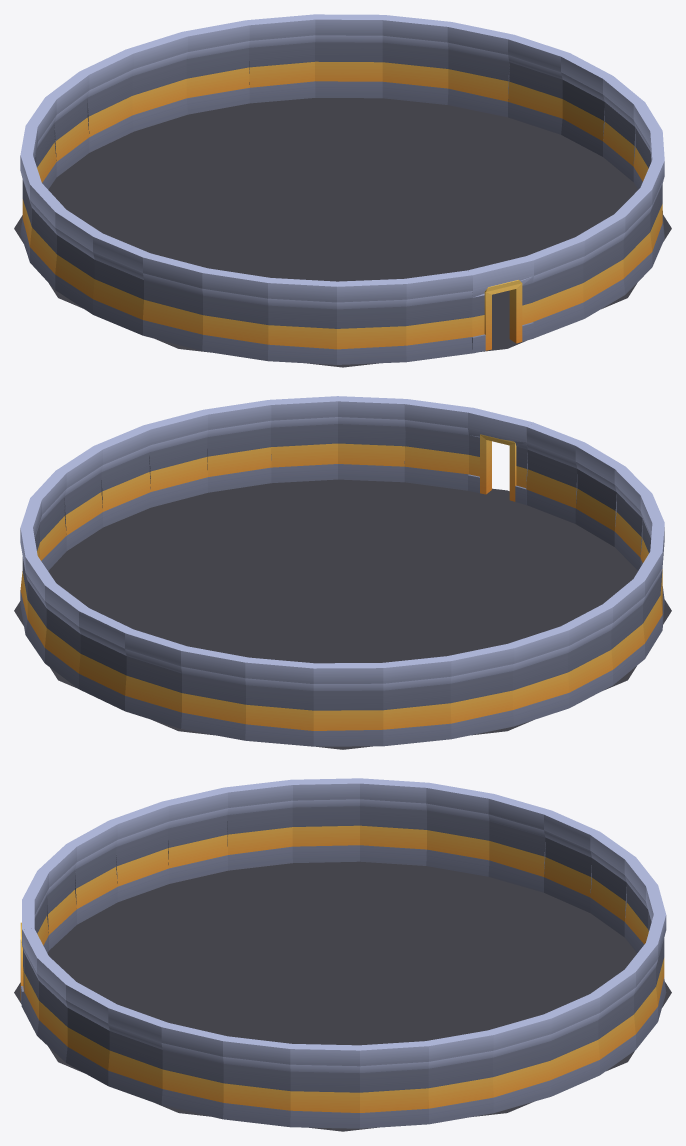
Rendered from walls.glb.
3 views of the same model, one above another, from view 1: azimuth 30°, elevation 25°; view 2: azimuth 150°, elevation 25°; view 3: azimuth 270°, elevation 25° (orthographic).
Visible parts, largest first — view 1: wall-banner, Plane, wall-door-banner; view 2: wall-banner, Plane, wall-door-banner; view 3: wall-banner, Plane, wall-door-banner.
Part boxes in pixels (<box>): wall-banner: <box>20,14,664,364</box>; Plane: <box>14,98,671,367</box>; wall-door-banner: <box>468,256,533,353</box>; wall-banner: <box>20,396,664,746</box>; Plane: <box>14,479,671,749</box>; wall-door-banner: <box>468,407,533,504</box>; wall-banner: <box>22,778,666,1128</box>; Plane: <box>14,861,671,1131</box>; wall-door-banner: <box>20,899,34,1006</box>.
Bounding box in the file's own units: 25.02 × 3.28 × 25.02.
3 materials, 3 textured.
